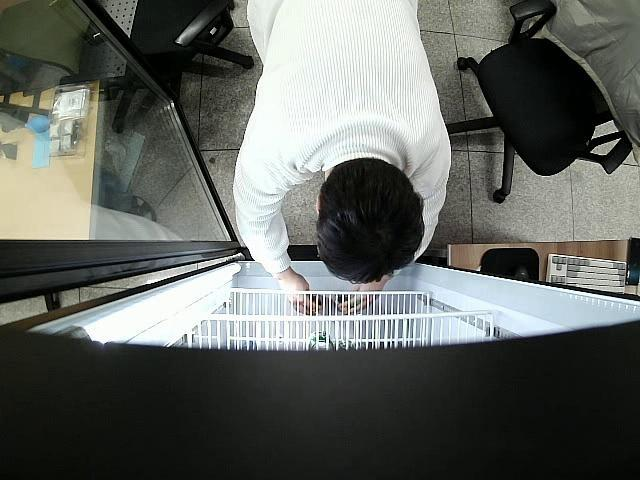17_vita500: (308, 294, 322, 312), (337, 294, 347, 312)
